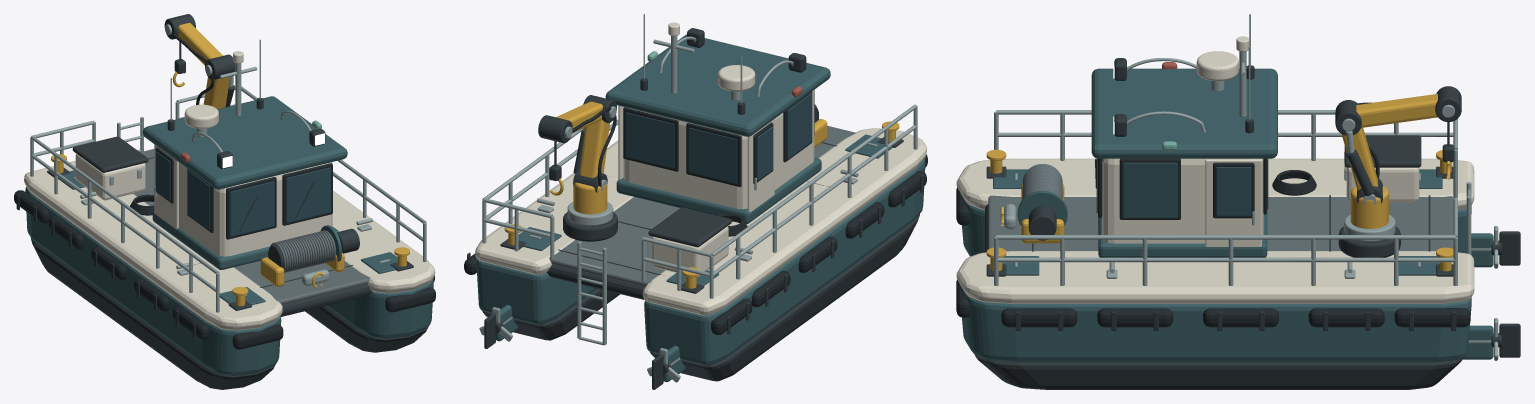
File: catamaran_workboat.glb
The picture shows the model from 3 angles, left to right: view 1: azimuth 30°, elevation 25°; view 2: azimuth 150°, elevation 25°; view 3: azimuth 270°, elevation 25°; orthographic projection. The views are drawn at different scales.
Parts seen in each view (by area): view 1: Port.Gunwale, Pilothouse.RoundedRoof, Port.PaintedHull, Port.LowerHull, Pilothouse.CreamShell, Starboard.Gunwale, Starboard.PaintedHull, BridgeDeck.NonslipSurface, Windshield_-0.61.Glass, Windshield_0.61.Glass, Starboard.LowerHull, DeckLocker.Body (+29 smaller); view 2: Port.Gunwale, Pilothouse.RoundedRoof, Port.PaintedHull, Pilothouse.CreamShell, BridgeDeck.NonslipSurface, Port.LowerHull, Starboard.Gunwale, Starboard.PaintedHull, Pilothouse.BaseSkirt, RearCabinGlass_0.62, RearCabinGlass_-0.62, DeckLocker.Lid (+31 smaller); view 3: Starboard.PaintedHull, Starboard.Gunwale, Pilothouse.RoundedRoof, Starboard.LowerHull, BridgeDeck.NonslipSurface, Port.Gunwale, Pilothouse.CreamShell, SideForwardWindow_1.Glass, OuterRail_1.Rail_2, Pilothouse.Door_1, Pilothouse.BaseSkirt, OuterRail_1.Rail_1 (+31 smaller).
Boxes of the visible parts, box(x1,y1,x2,y2) form: Port.Gunwale: box(24, 161, 282, 330); Pilothouse.RoundedRoof: box(142, 96, 347, 189); Port.PaintedHull: box(25, 186, 281, 375); Port.LowerHull: box(30, 237, 275, 389); Pilothouse.CreamShell: box(179, 162, 332, 256); Starboard.Gunwale: box(332, 190, 435, 293); Starboard.PaintedHull: box(326, 279, 433, 338); BridgeDeck.NonslipSurface: box(133, 149, 370, 304); Windshield_-0.61.Glass: box(230, 181, 274, 236); Windshield_0.61.Glass: box(286, 167, 330, 222); Starboard.LowerHull: box(305, 306, 428, 352); DeckLocker.Body: box(75, 154, 145, 200); Port.Gunwale: box(642, 128, 926, 315); Pilothouse.RoundedRoof: box(605, 34, 830, 136); Port.PaintedHull: box(644, 159, 925, 365); Pilothouse.CreamShell: box(623, 90, 814, 209); BridgeDeck.NonslipSurface: box(549, 126, 855, 286); Port.LowerHull: box(650, 214, 919, 381); Starboard.Gunwale: box(475, 140, 633, 274); Starboard.PaintedHull: box(476, 259, 597, 324); Pilothouse.BaseSkirt: box(616, 157, 821, 223); RearCabinGlass_0.62: box(625, 112, 674, 168); RearCabinGlass_-0.62: box(688, 127, 737, 183); DeckLocker.Lid: box(648, 207, 731, 247); Starboard.PaintedHull: box(960, 285, 1471, 362); Starboard.Gunwale: box(956, 251, 1474, 303); Pilothouse.RoundedRoof: box(1091, 68, 1277, 158); Starboard.LowerHull: box(974, 354, 1463, 389); BridgeDeck.NonslipSurface: box(988, 195, 1453, 251); Port.Gunwale: box(956, 158, 1474, 209); Pilothouse.CreamShell: box(1102, 158, 1263, 243); SideForwardWindow_1.Glass: box(1123, 162, 1177, 217); OuterRail_1.Rail_2: box(997, 257, 1455, 262); Pilothouse.Door_1: box(1205, 159, 1261, 246); Pilothouse.BaseSkirt: box(1098, 209, 1267, 257); OuterRail_1.Rail_1: box(996, 235, 1455, 239).
Size of the model in its own units: 5.15 by 5.12 by 8.53.
